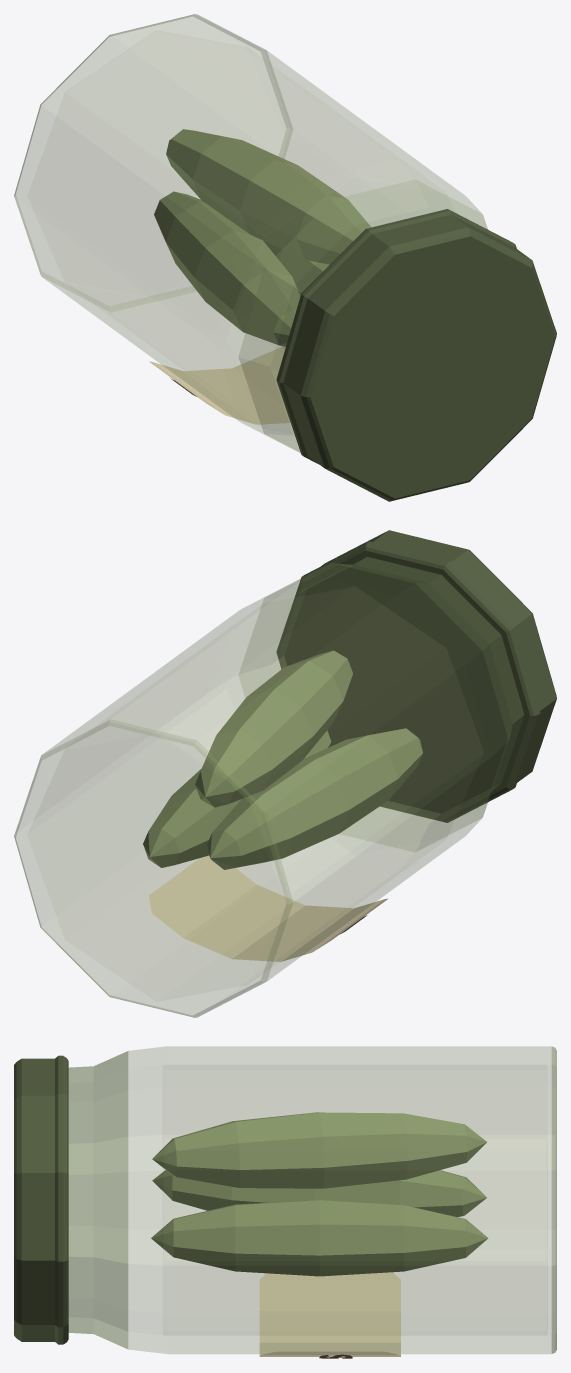
File: pickles_jar.glb
3 views of the same model, one above another, from view 1: azimuth 30°, elevation 25°; view 2: azimuth 150°, elevation 25°; view 3: azimuth 270°, elevation 25° (orthographic). The views are drawn at different scales.
Visible parts, largest first — view 1: pickles_jar; view 2: pickles_jar; view 3: pickles_jar.
Part boxes in pixels (x1,y1,x2,y2): pickles_jar: (14, 14, 556, 501); pickles_jar: (14, 530, 556, 1017); pickles_jar: (14, 1046, 556, 1358).
Bounding box in the file's own units: 0.068 × 0.0671 × 0.119.
